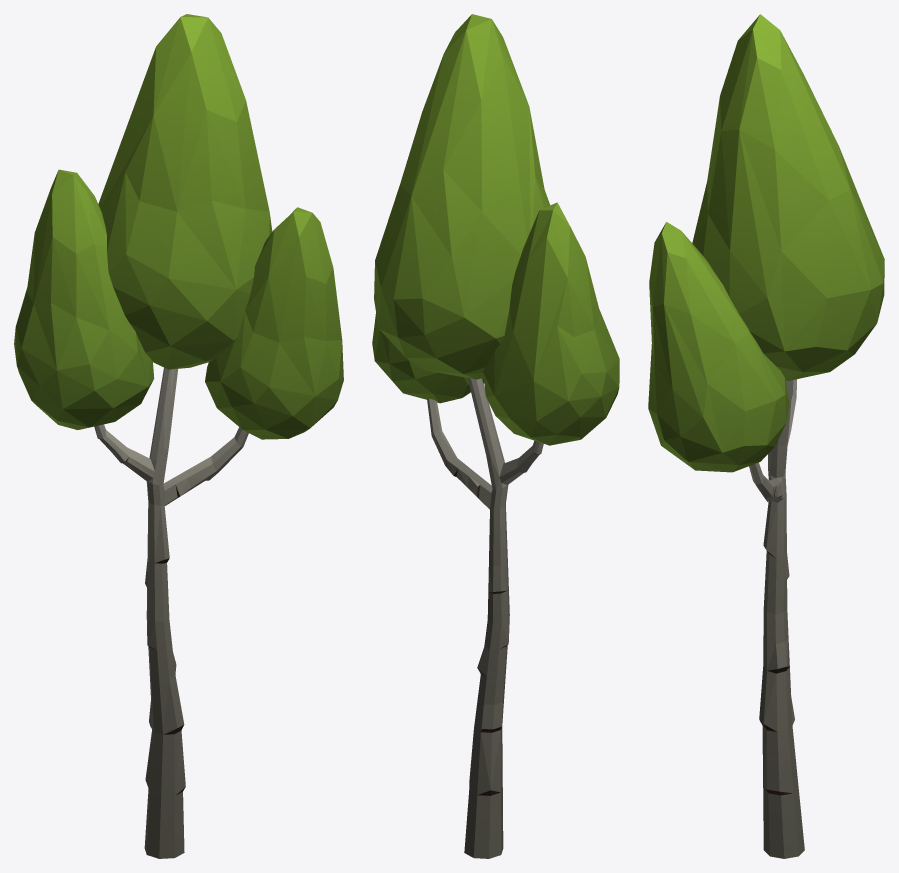
File: ZLP_Plant_J_5.FBX
The picture shows the model from 3 angles, left to right: view 1: azimuth 30°, elevation 25°; view 2: azimuth 150°, elevation 25°; view 3: azimuth 270°, elevation 25°; orthographic projection. The views are drawn at different scales.
Visible parts, largest first — view 1: ZLP_Plant_J_5; view 2: ZLP_Plant_J_5; view 3: ZLP_Plant_J_5.
Part boxes in pixels (x1,y1,x2,y2): ZLP_Plant_J_5: (14, 14, 343, 858); ZLP_Plant_J_5: (372, 14, 619, 858); ZLP_Plant_J_5: (648, 14, 884, 858).
Size of the model in its own units: 303 by 892 by 228.
